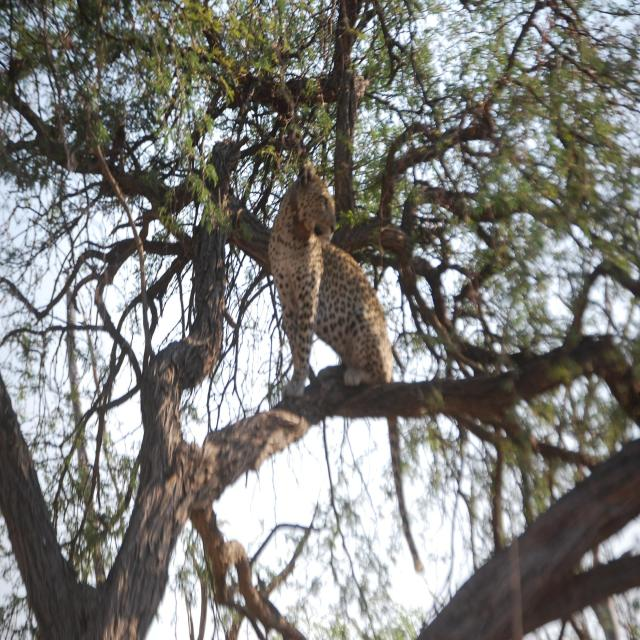Leopard: (268, 156, 394, 400)
